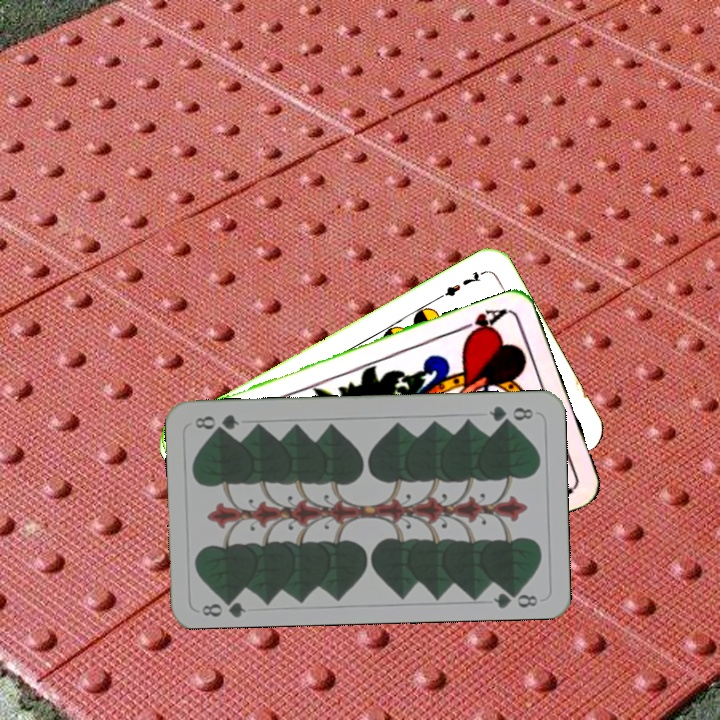E7: (434, 267, 488, 302)
G8: (198, 592, 248, 619), (485, 401, 536, 425)
HA: (455, 304, 513, 342)
